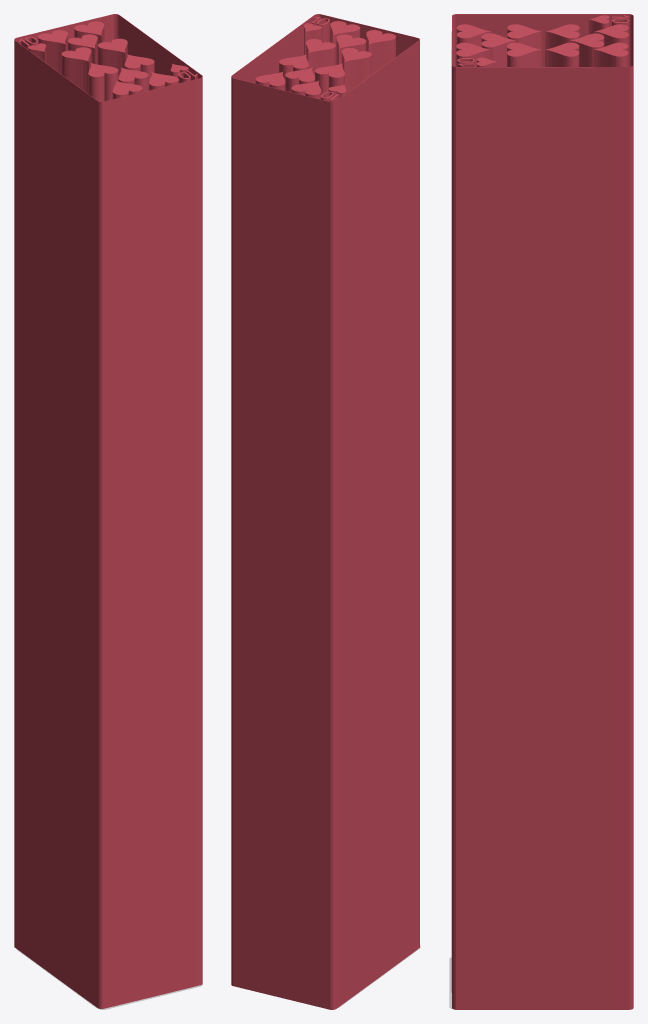
The model's file is 10_hearts.glb.
3 views of the same model, side by side, from view 1: azimuth 30°, elevation 25°; view 2: azimuth 150°, elevation 25°; view 3: azimuth 270°, elevation 25° (orthographic). The views are drawn at different scales.
Visible parts, largest first — view 1: Mesh_Mesh_head_geo.001_lambert2SG.001; view 2: Mesh_Mesh_head_geo.001_lambert2SG.001; view 3: Mesh_Mesh_head_geo.001_lambert2SG.001.
Part boxes in pixels (box(x1,y1,x2,y2)): Mesh_Mesh_head_geo.001_lambert2SG.001: box(14, 14, 202, 1009); Mesh_Mesh_head_geo.001_lambert2SG.001: box(231, 14, 420, 1009); Mesh_Mesh_head_geo.001_lambert2SG.001: box(449, 14, 633, 1009).
Bounding box in the file's own units: 1.22 × 10 × 1.78.
